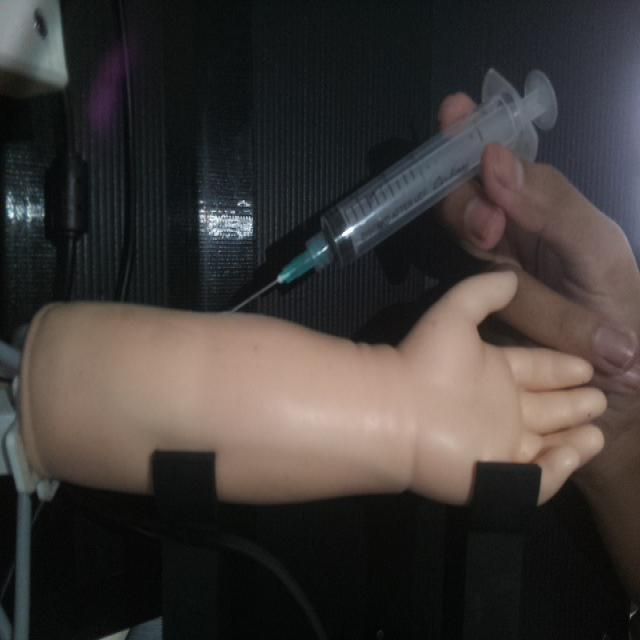Outside: (225, 63, 560, 313)
